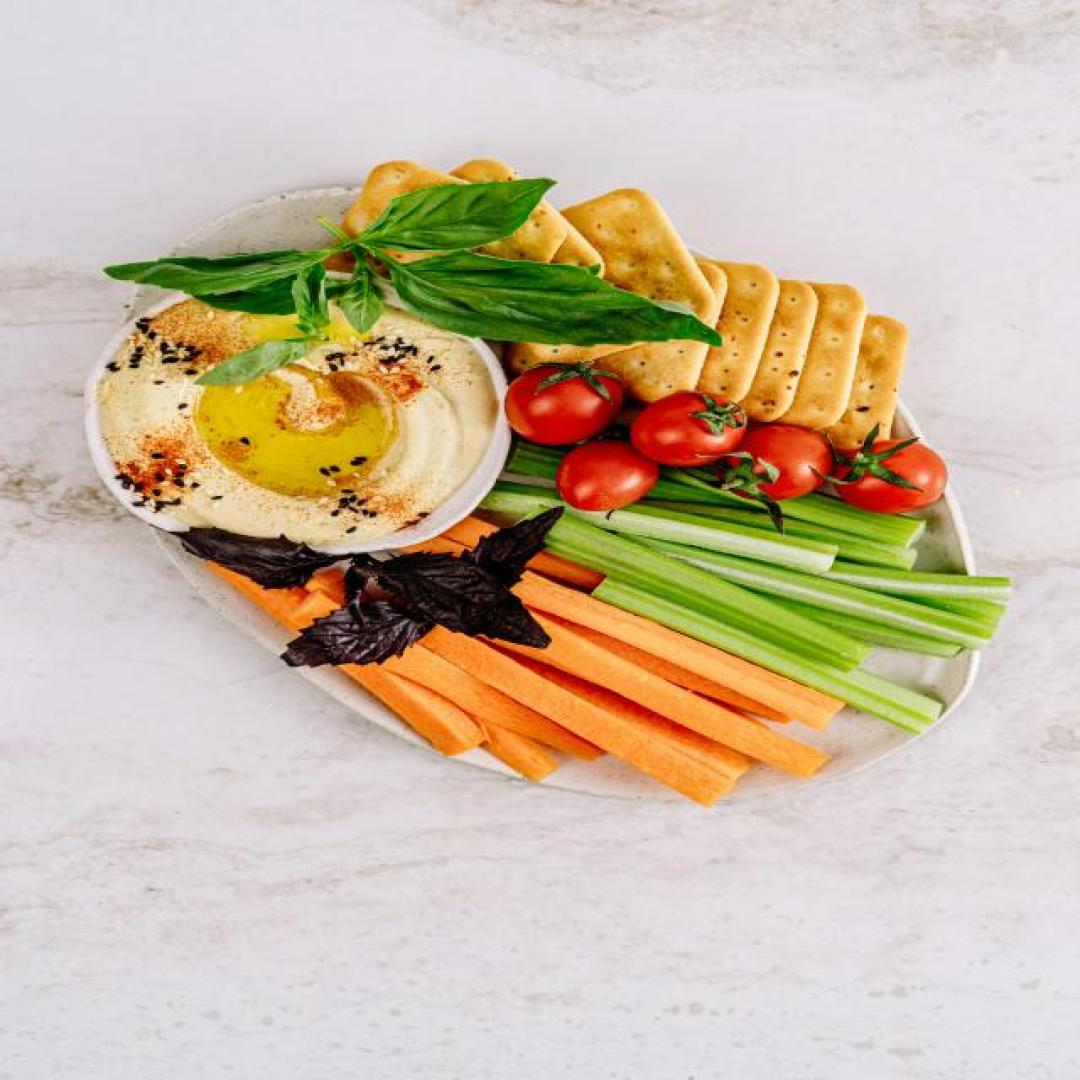matang: (503, 366, 623, 446), (714, 425, 832, 501), (834, 438, 948, 514), (630, 392, 747, 466), (557, 440, 658, 512)
